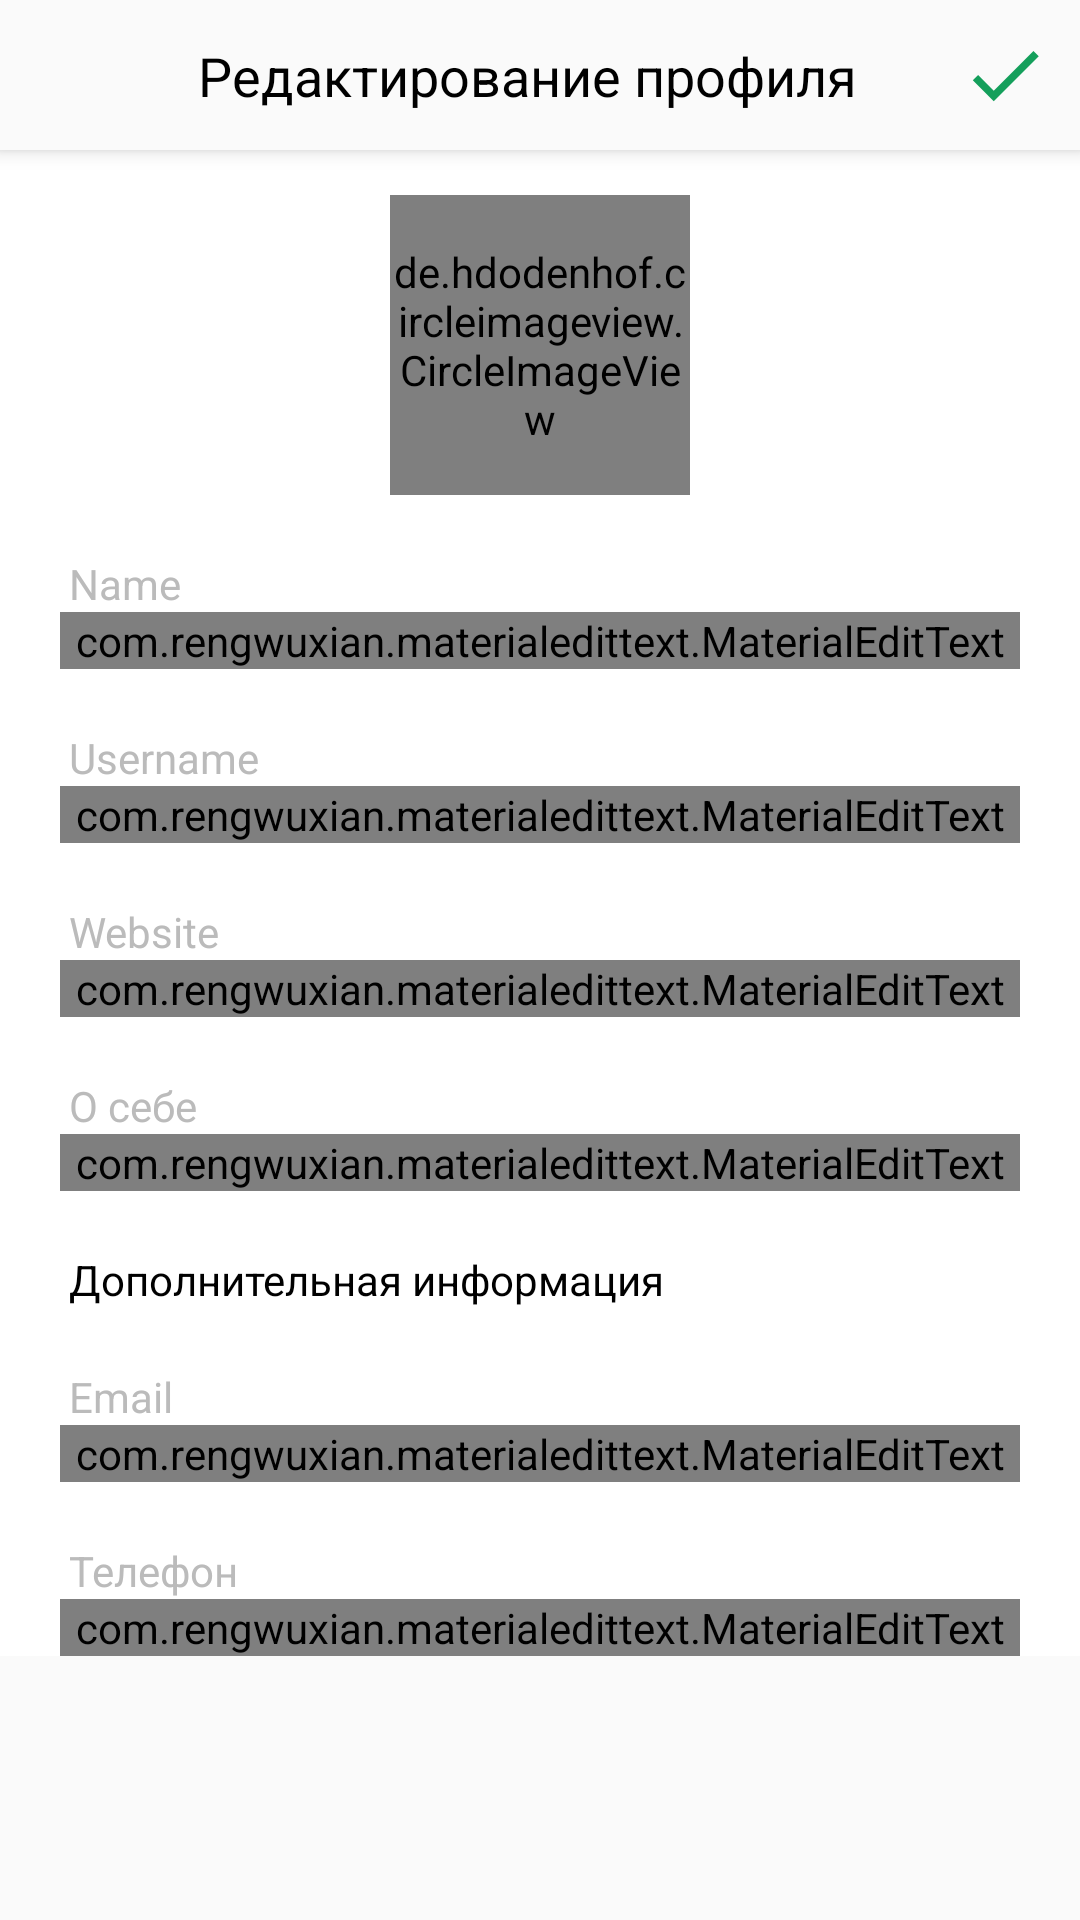

Icons on this 1080x1920 Android screen, each with its box as (x1, y1, x2, y2):
check: (973, 51, 1039, 101)
